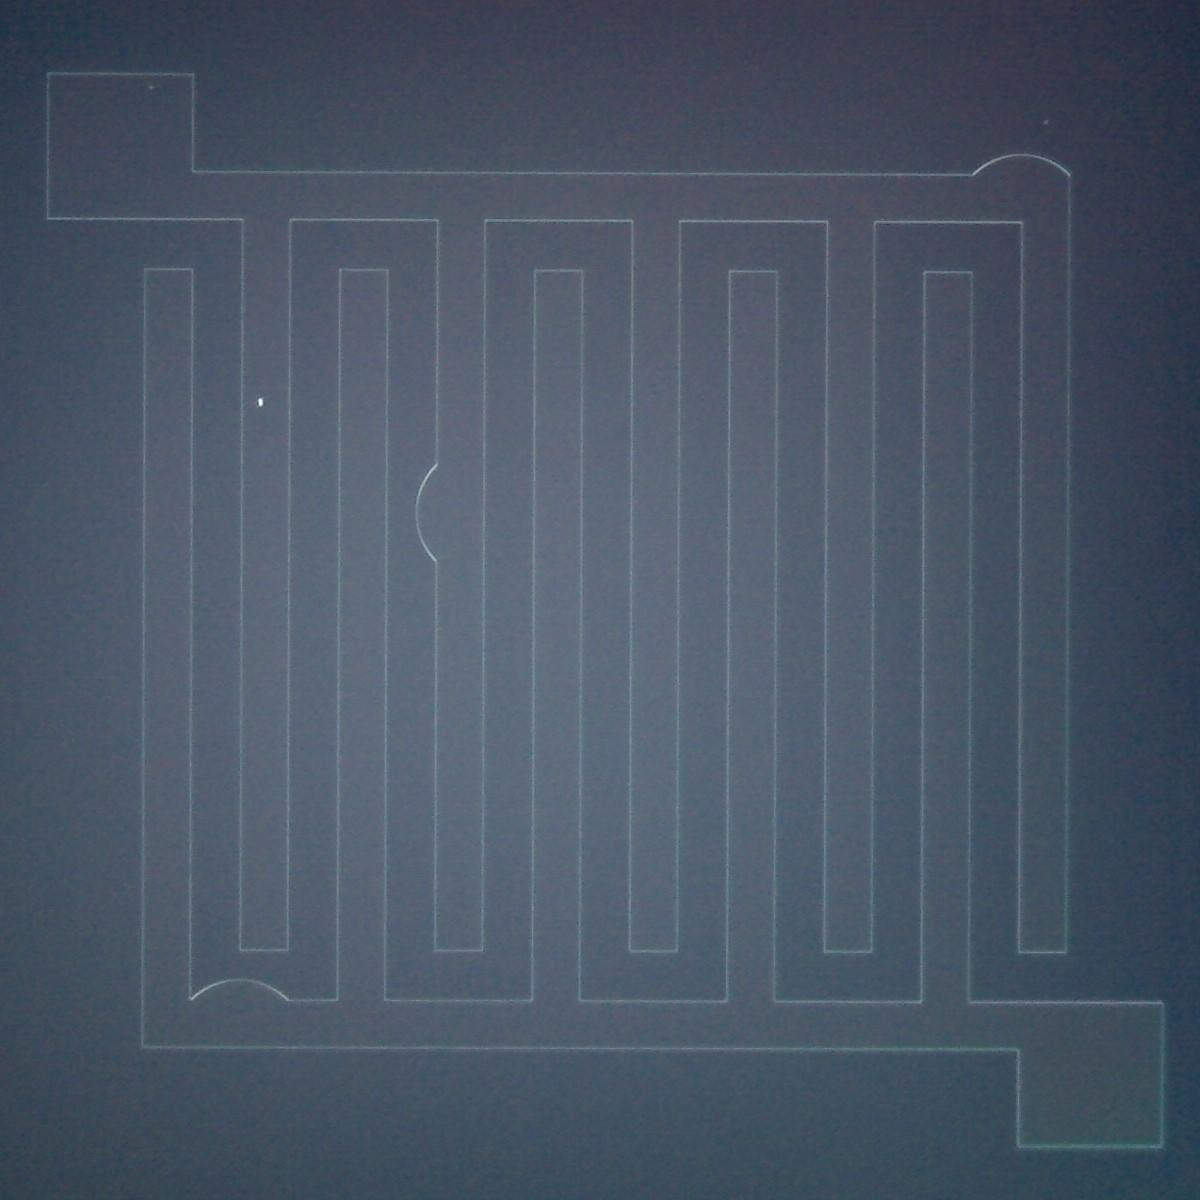B_point: (255, 397, 267, 409)
project: (160, 964, 312, 1025), (399, 445, 466, 581), (952, 143, 1089, 207)
s_point: (146, 82, 156, 92)
